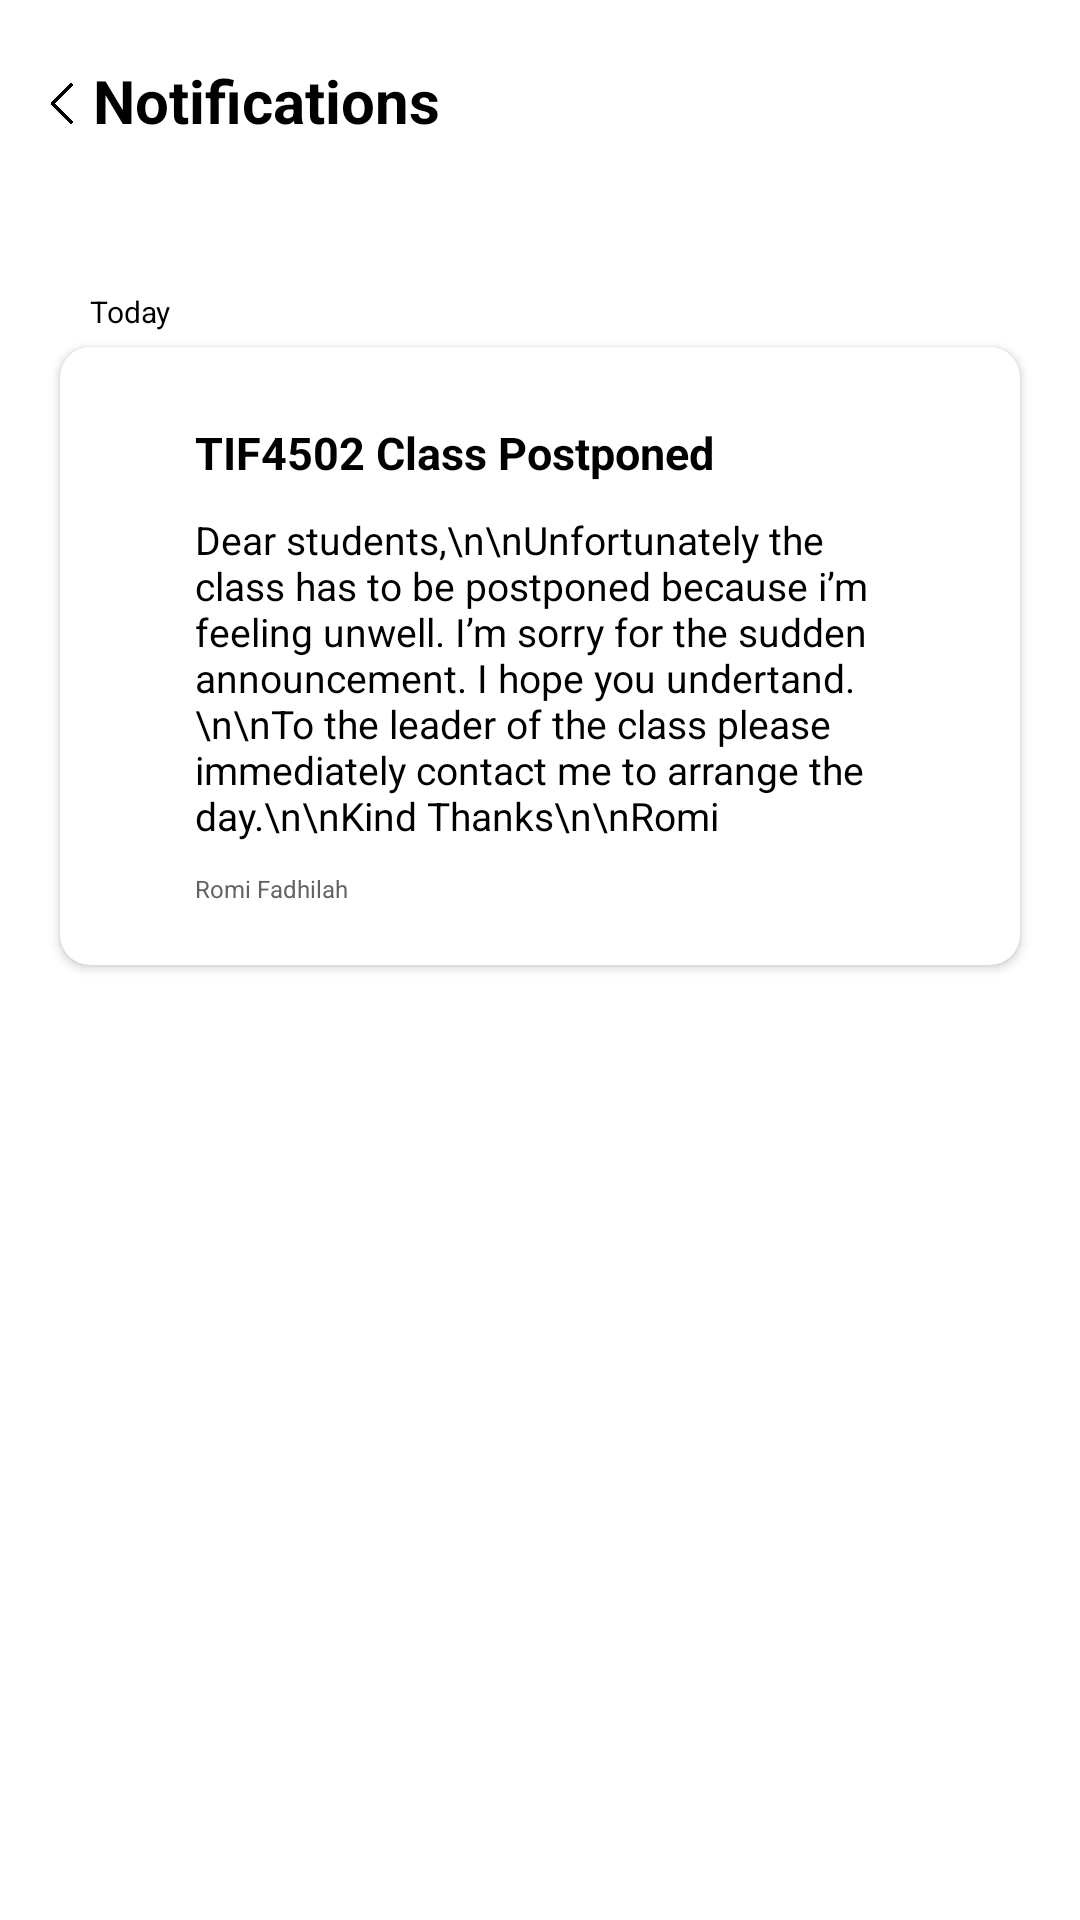

Icon click points for this 1080×1920 phone screenshot, format [x,y]:
back: [62,103]
